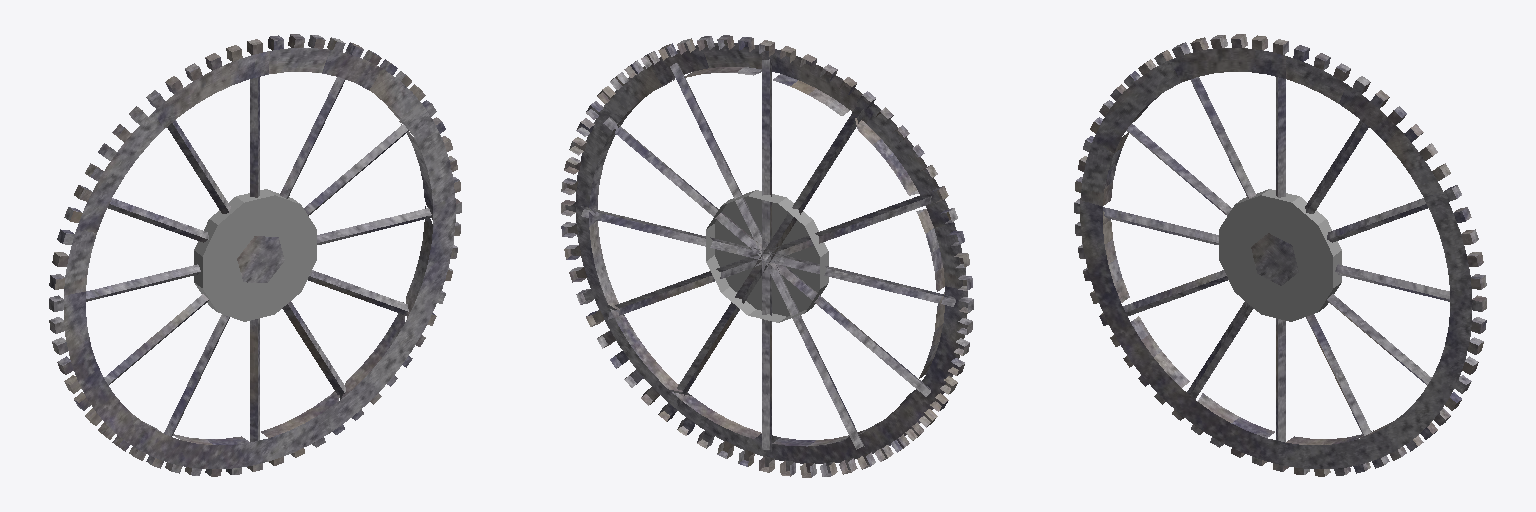
3 views of the same model, side by side, from view 1: azimuth 30°, elevation 25°; view 2: azimuth 150°, elevation 25°; view 3: azimuth 330°, elevation 25° (orthographic).
Parts seen in each view (by area): view 1: Cube.001_Mesh; view 2: Cube.001_Mesh; view 3: Cube.001_Mesh.
Boxes of the visible parts, box(x1,y1,x2,y2) form: Cube.001_Mesh: box(49, 34, 461, 476); Cube.001_Mesh: box(561, 35, 973, 477); Cube.001_Mesh: box(1074, 34, 1486, 476).
Bounding box in the file's own units: 5.12 × 5.12 × 0.2188.
Materials: 2 (1 with a texture image).